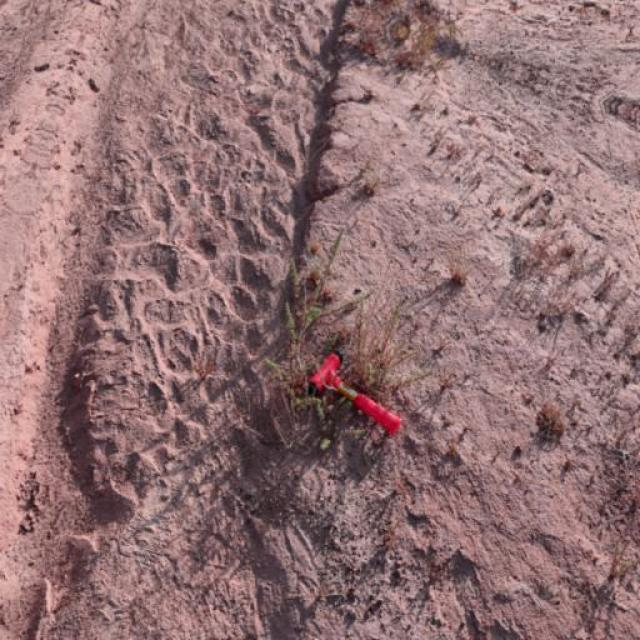mallet: (309, 350, 405, 438)
